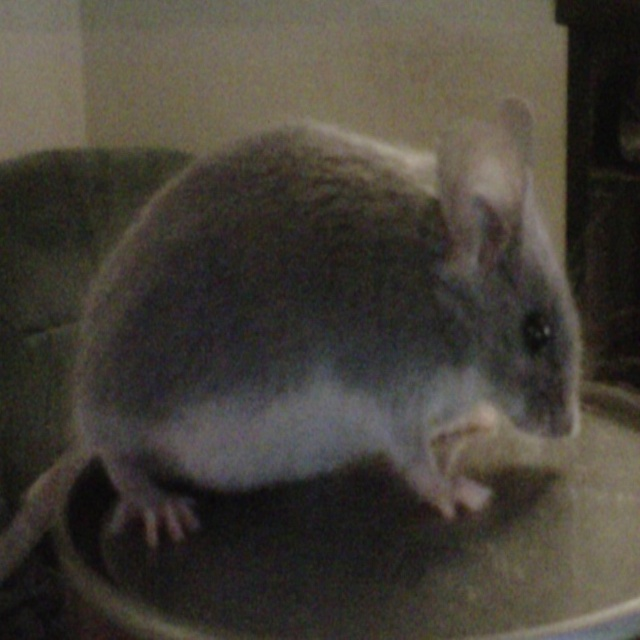Mouse: (0, 98, 582, 588)
